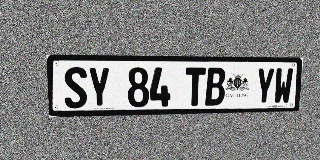4: (150, 67, 171, 107)
8: (128, 67, 149, 107)
B: (205, 68, 226, 106)
S: (63, 67, 88, 108)
T: (185, 67, 206, 106)
W: (273, 68, 294, 104)
Y: (87, 67, 110, 108), (254, 68, 275, 105)
